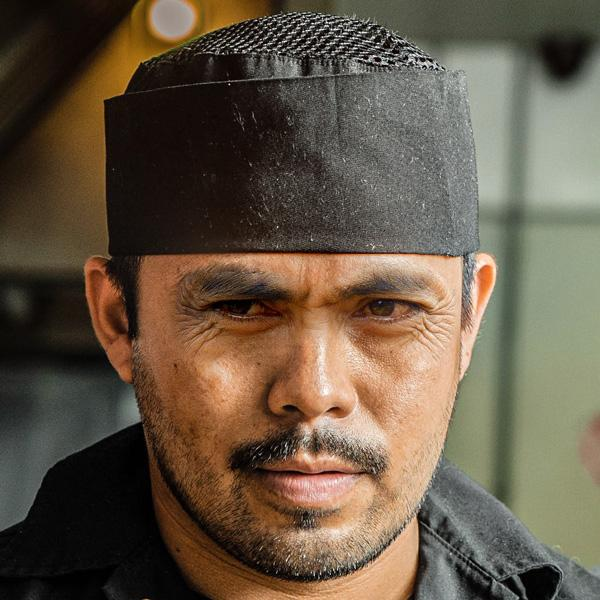Eyes: (192, 286, 289, 335), (343, 286, 433, 336)
